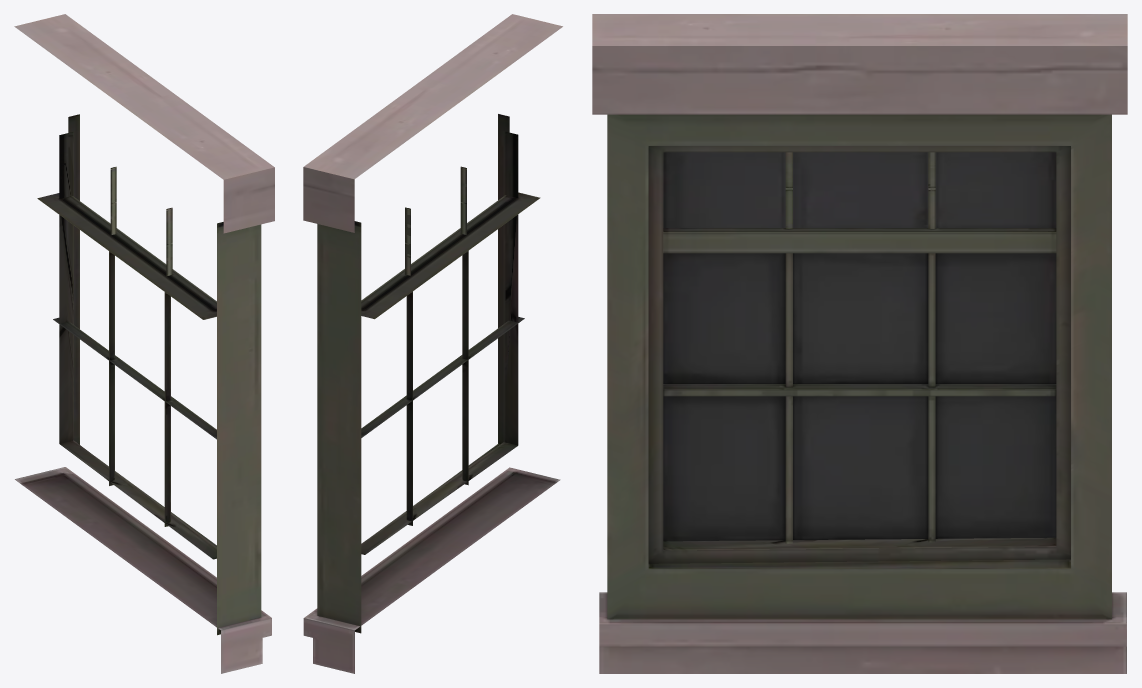
3 renders of one model, left to right at view 1: azimuth 30°, elevation 25°; view 2: azimuth 150°, elevation 25°; view 3: azimuth 270°, elevation 25°, orthographic. The views are drawn at different scales.
Parts seen in each view (by area): view 1: body0_model0_lod0_mesh0; view 2: body0_model0_lod0_mesh0; view 3: body0_model0_lod0_mesh0.
Boxes of the visible parts, <box> form: body0_model0_lod0_mesh0: <box>14,14,274,673</box>; body0_model0_lod0_mesh0: <box>303,14,562,673</box>; body0_model0_lod0_mesh0: <box>592,14,1127,673</box>.
Bounding box in the file's own units: 10.08 × 92.18 × 70.55.
1 material, 1 textured.
